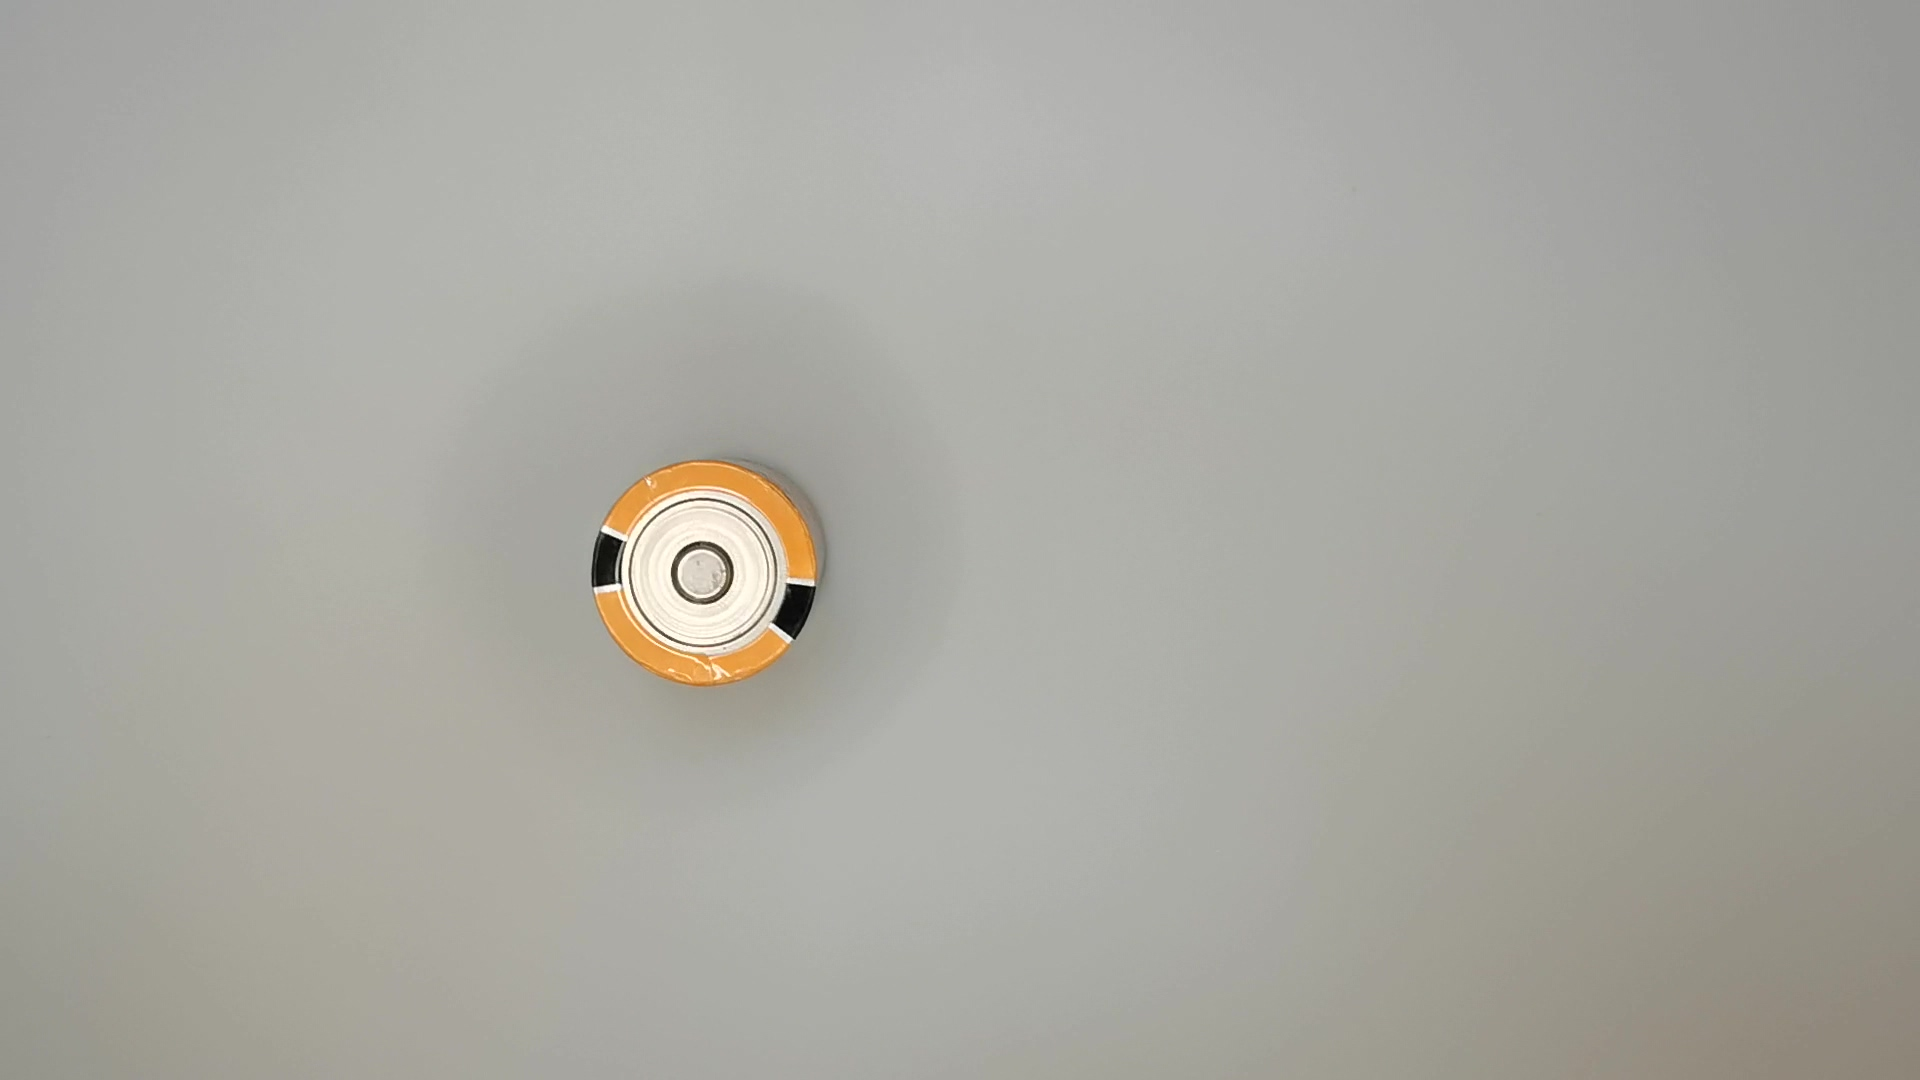battery: (582, 454, 841, 700)
